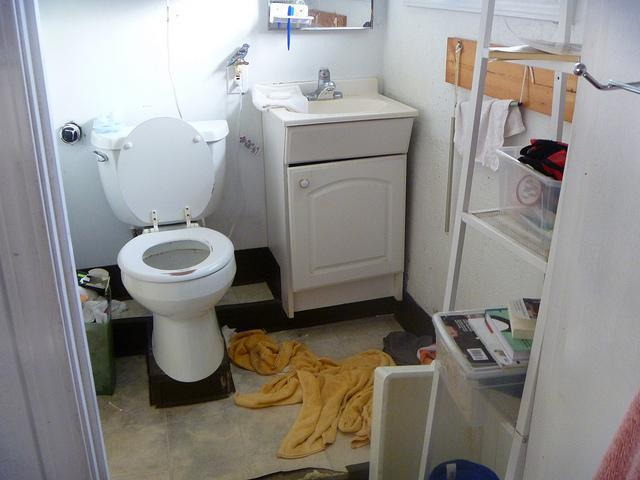Bote de Basura: (49, 271, 108, 391)
Lavamanos: (267, 71, 411, 153)
